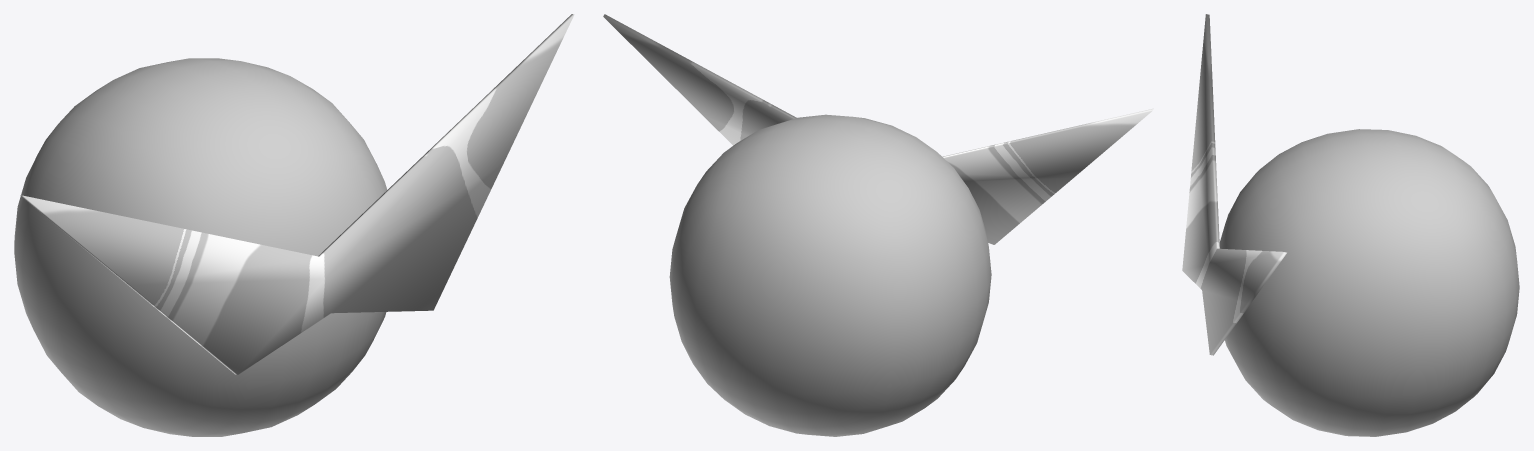
File: Boidv3.fbx
3 views of the same model, side by side, from view 1: azimuth 30°, elevation 25°; view 2: azimuth 150°, elevation 25°; view 3: azimuth 270°, elevation 25° (orthographic). The views are drawn at different scales.
Visible parts, largest first — view 1: Boid_V3; view 2: Boid_V3; view 3: Boid_V3.
Boxes of the visible parts, <box> form: Boid_V3: <box>14,14,574,436</box>; Boid_V3: <box>603,14,1153,436</box>; Boid_V3: <box>1182,14,1519,436</box>.
Size of the model in its own units: 419 by 242 by 251.
Materials: 1 (1 with a texture image).
